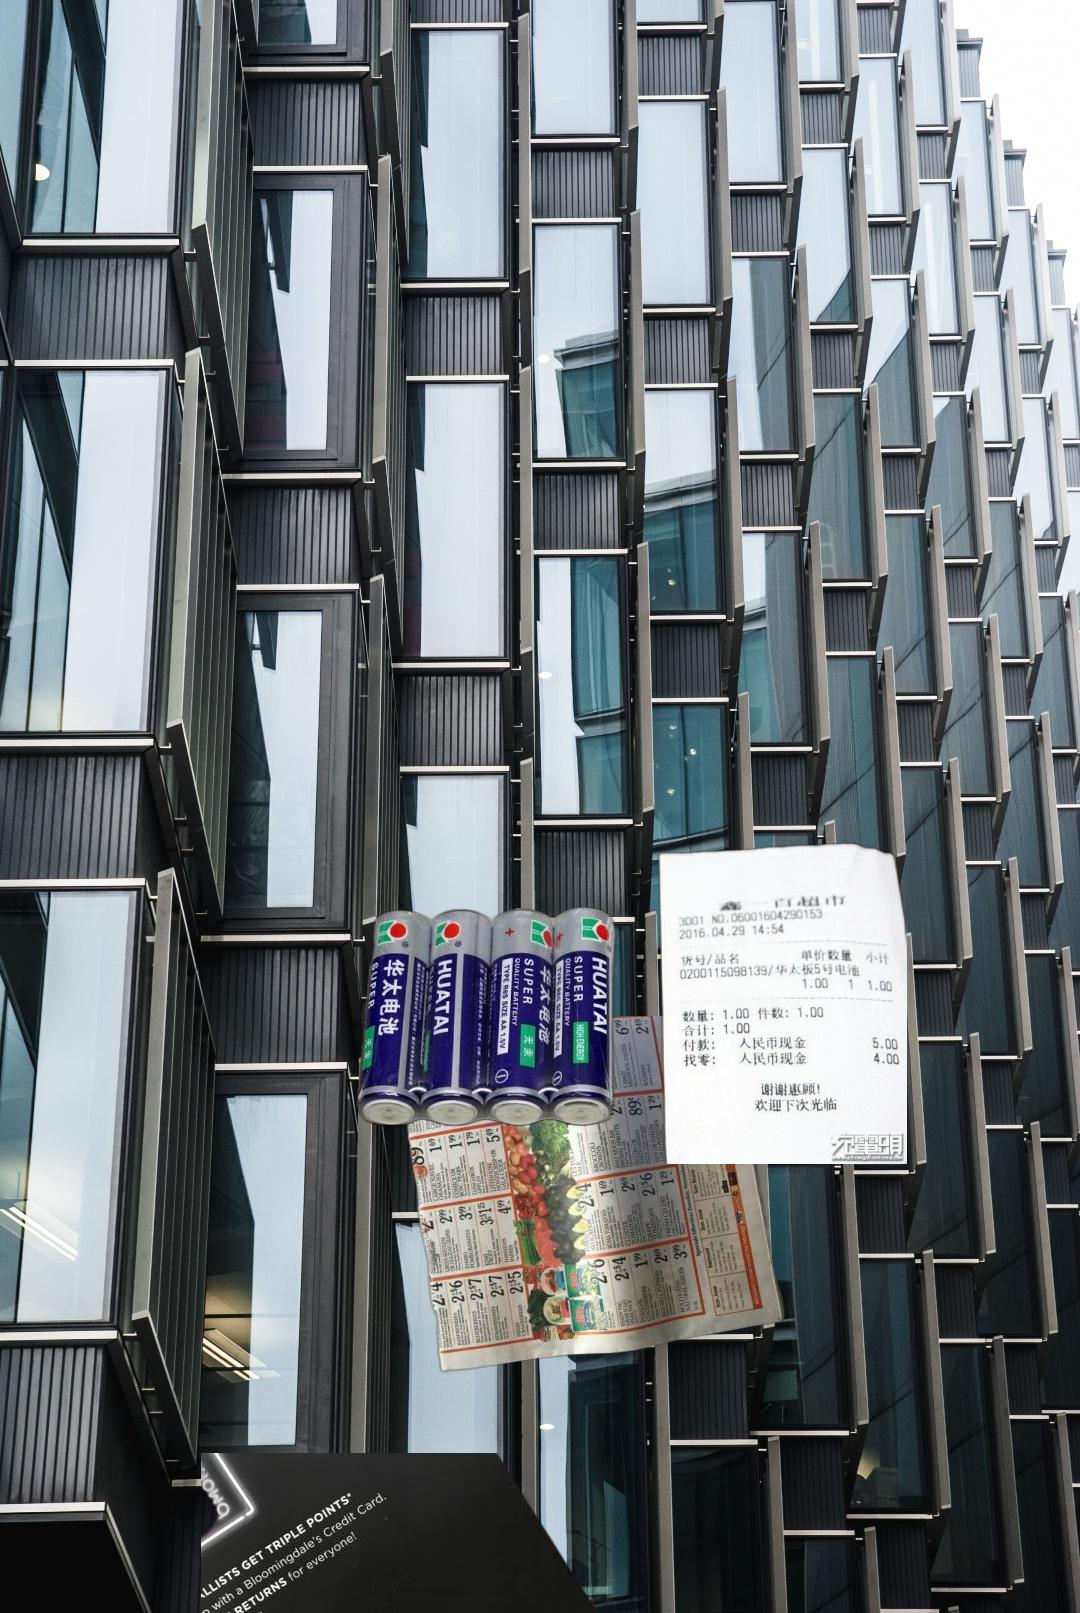battery: (352, 841, 906, 1165)
paper: (392, 1016, 790, 1376), (201, 1453, 653, 1613)
